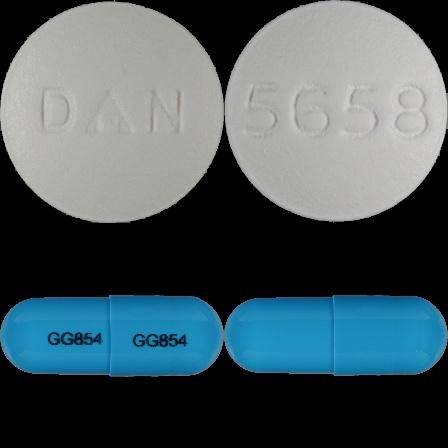0440-1350: (0, 0, 224, 224)
